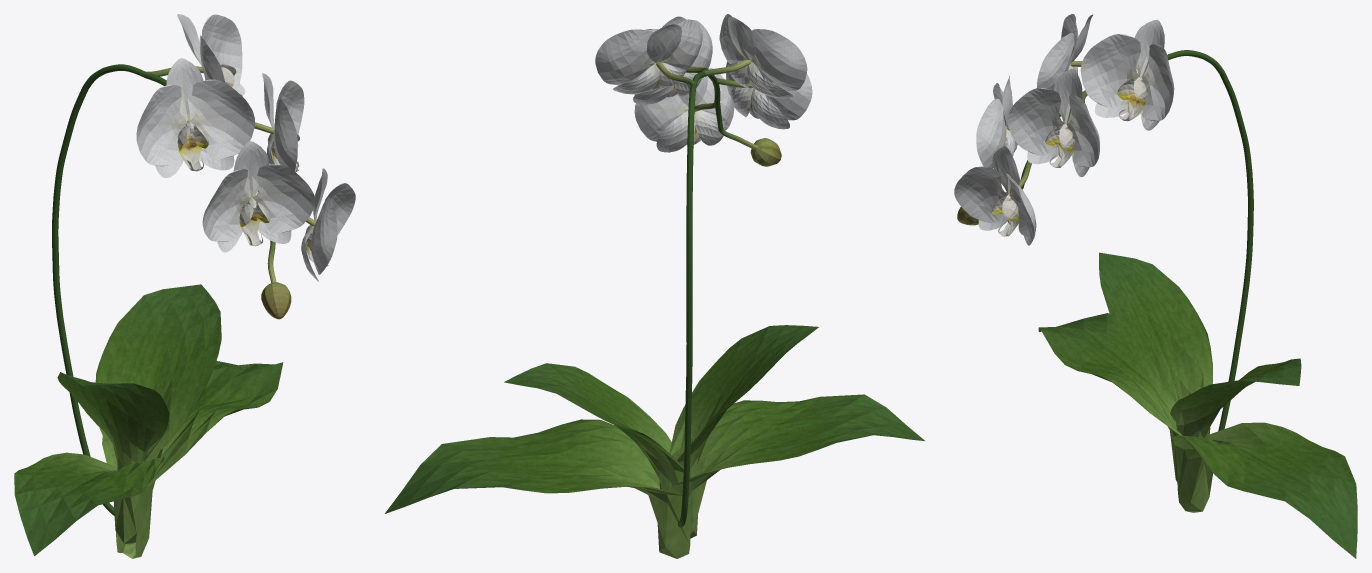
The picture shows the model from 3 angles, left to right: view 1: azimuth 30°, elevation 25°; view 2: azimuth 150°, elevation 25°; view 3: azimuth 270°, elevation 25°; orthographic projection. The views are drawn at different scales.
Bounding box in the file's own units: 1.92 × 2.5 × 1.81.
Materials: 1 (1 with a texture image).
